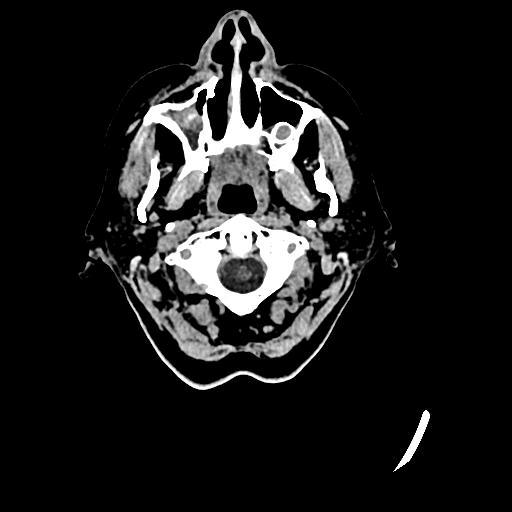Normal_Brain: (83, 3, 395, 394)
